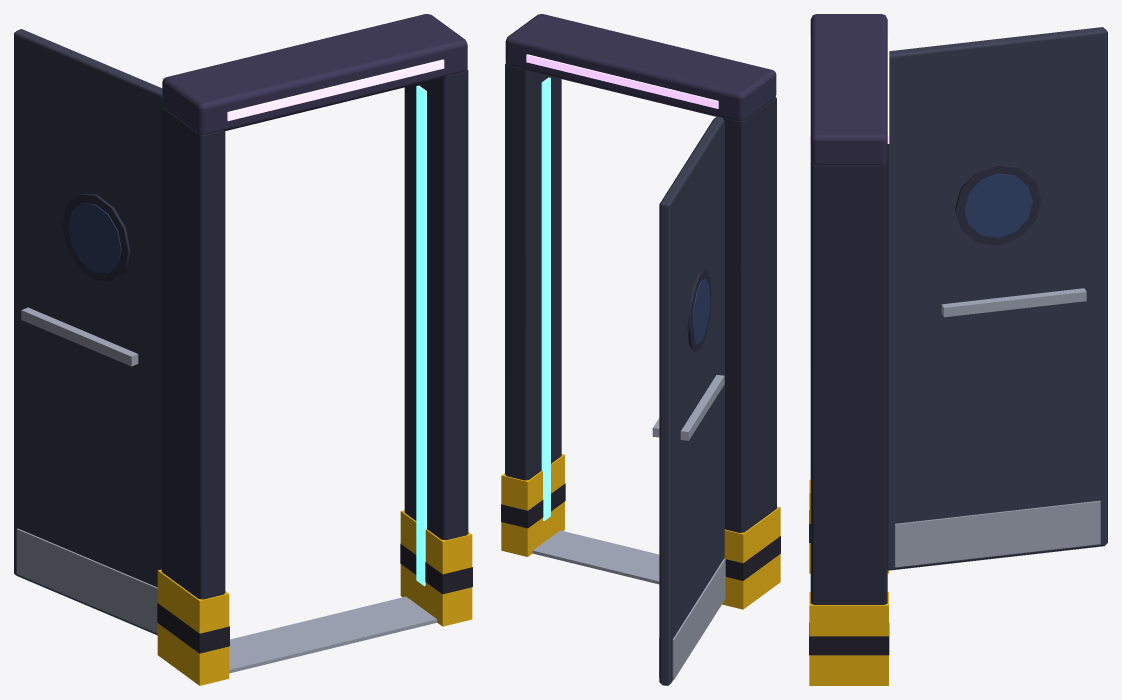
Rendered from wand_sockel_tuer.glb.
3 renders of one model, left to right at view 1: azimuth 30°, elevation 25°; view 2: azimuth 150°, elevation 25°; view 3: azimuth 270°, elevation 25°, orthographic. The views are drawn at different scales.
Visible parts, largest first — view 1: wand_sockel_tuer; view 2: wand_sockel_tuer; view 3: wand_sockel_tuer.
Part boxes in pixels (x1,y1,x2,y2): wand_sockel_tuer: [14, 14, 472, 685]; wand_sockel_tuer: [501, 14, 780, 685]; wand_sockel_tuer: [809, 14, 1107, 685].
Bounding box in the file's own units: 1.15 × 2.05 × 1.01.
